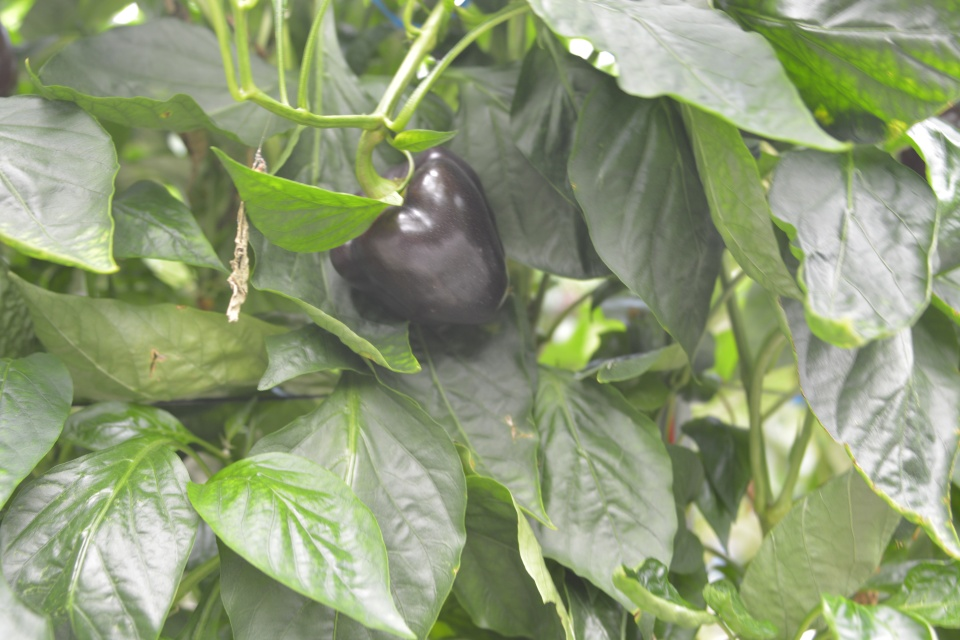fruit: (329, 141, 512, 341)
